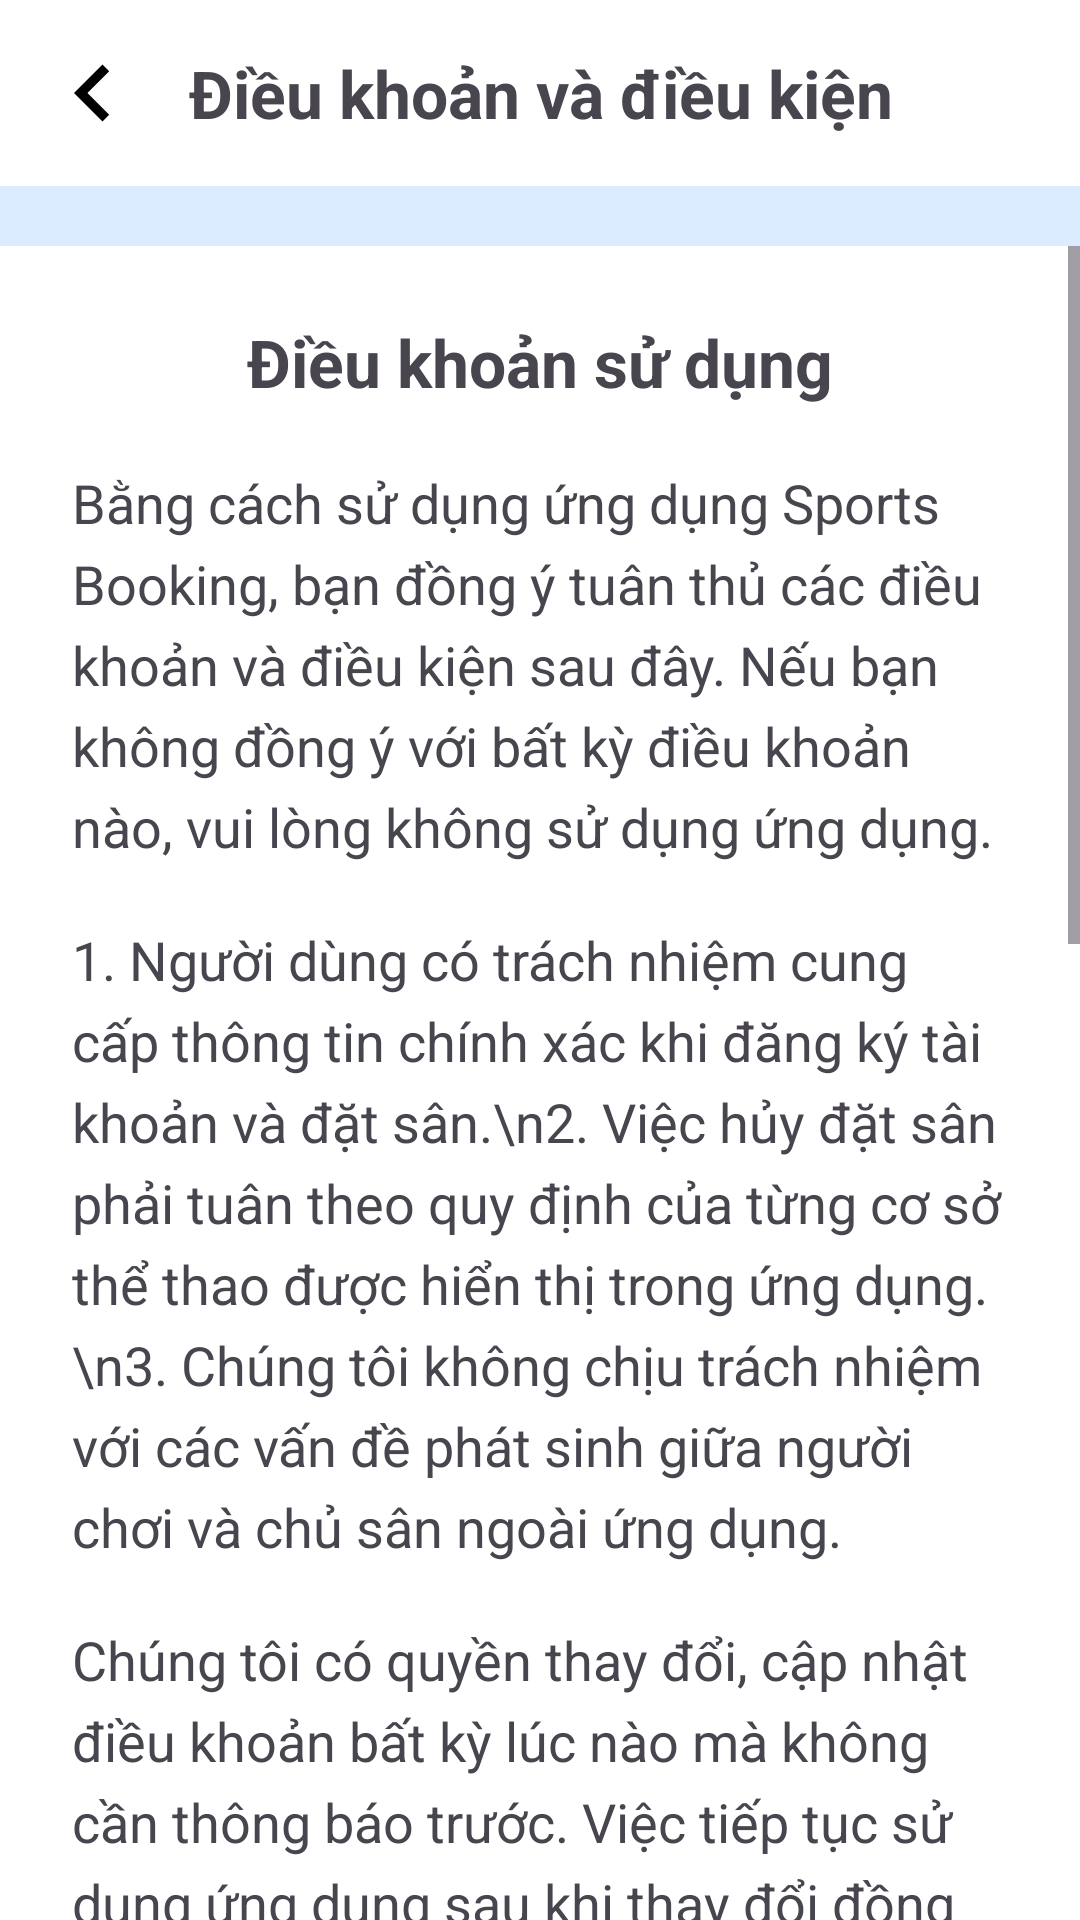

Point at icon controls on the screen. Image size 1080 × 1920, points as [x,y].
back: [91,93]
